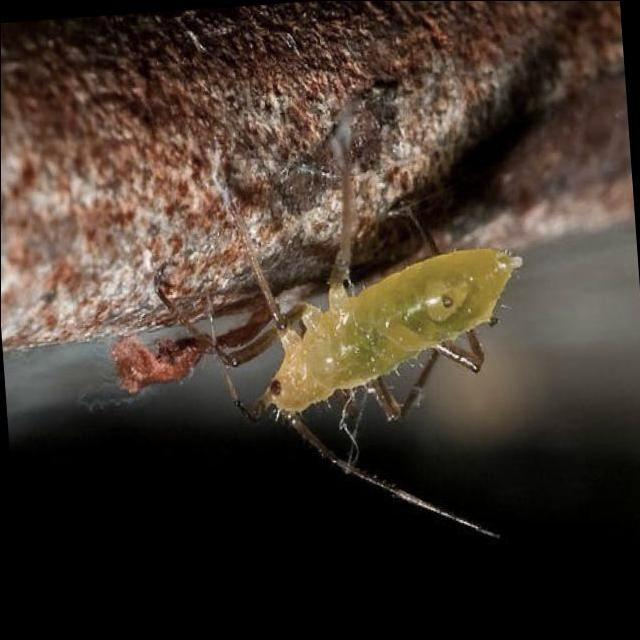aphid: (204, 153, 566, 473)
